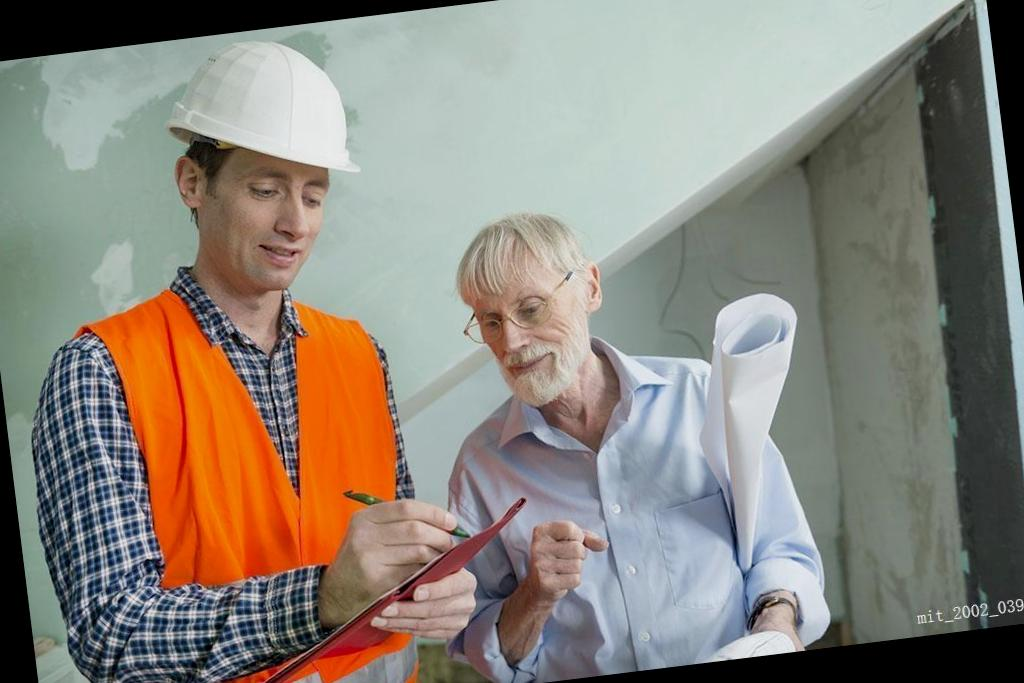helmet: (149, 26, 379, 203)
no_vest: (465, 367, 788, 683)
person: (0, 21, 454, 683), (412, 179, 833, 683)
